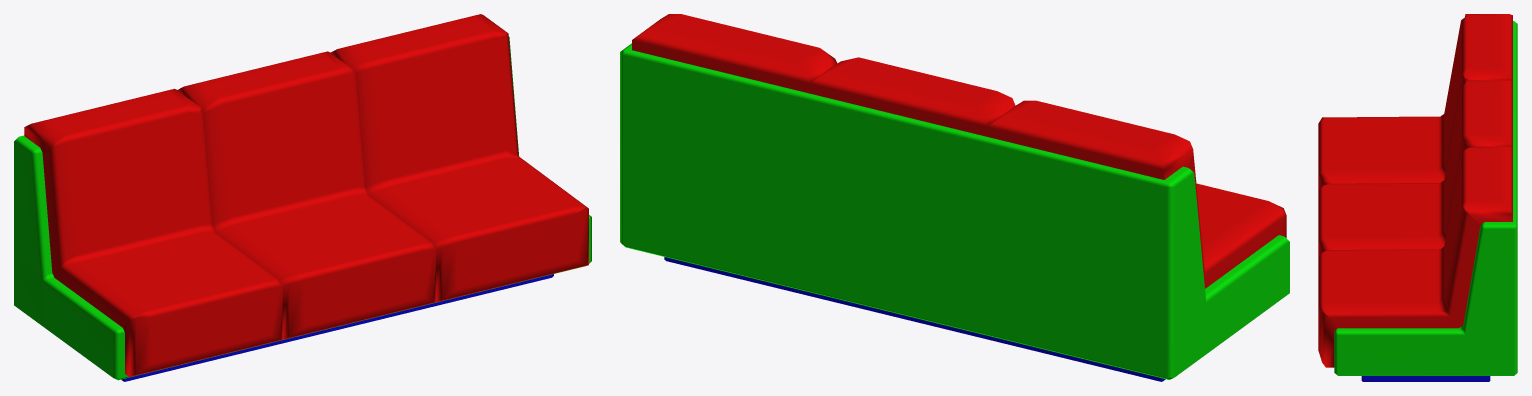
File: bank.fbx
The picture shows the model from 3 angles, left to right: view 1: azimuth 30°, elevation 25°; view 2: azimuth 150°, elevation 25°; view 3: azimuth 270°, elevation 25°; orthographic projection. The views are drawn at different scales.
Visible parts, largest first — view 1: bank.001; view 2: bank.001; view 3: bank.001.
Boxes of the visible parts, x1,y1,x2,y2 form: bank.001: (14, 14, 591, 381); bank.001: (620, 14, 1289, 381); bank.001: (1318, 14, 1517, 381).
Size of the model in its own units: 240 by 97.97 by 97.7.
